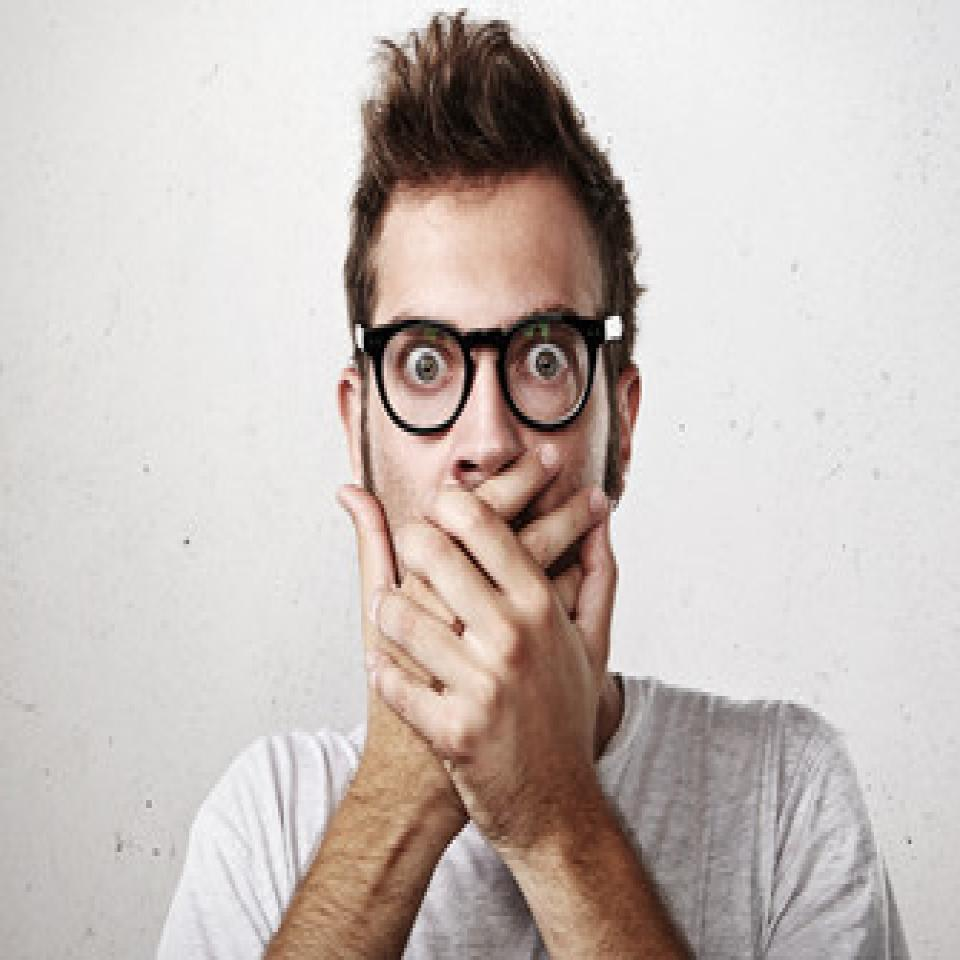Scared: (366, 193, 613, 751)
